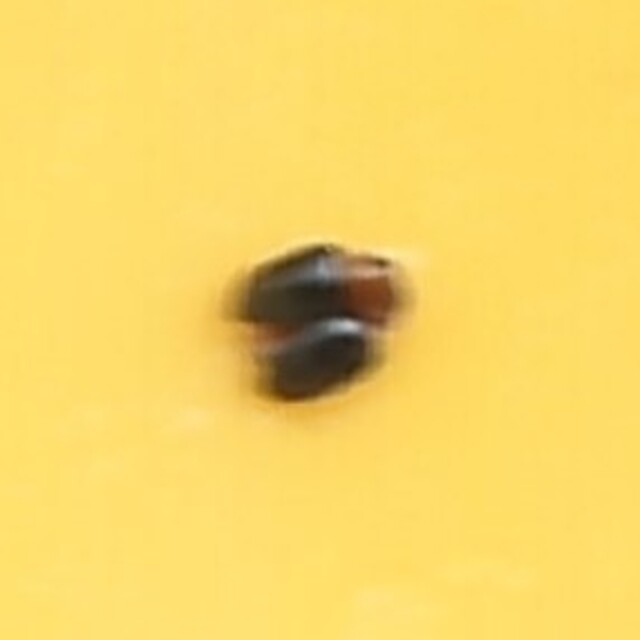Coleoptera: (224, 239, 416, 401)
